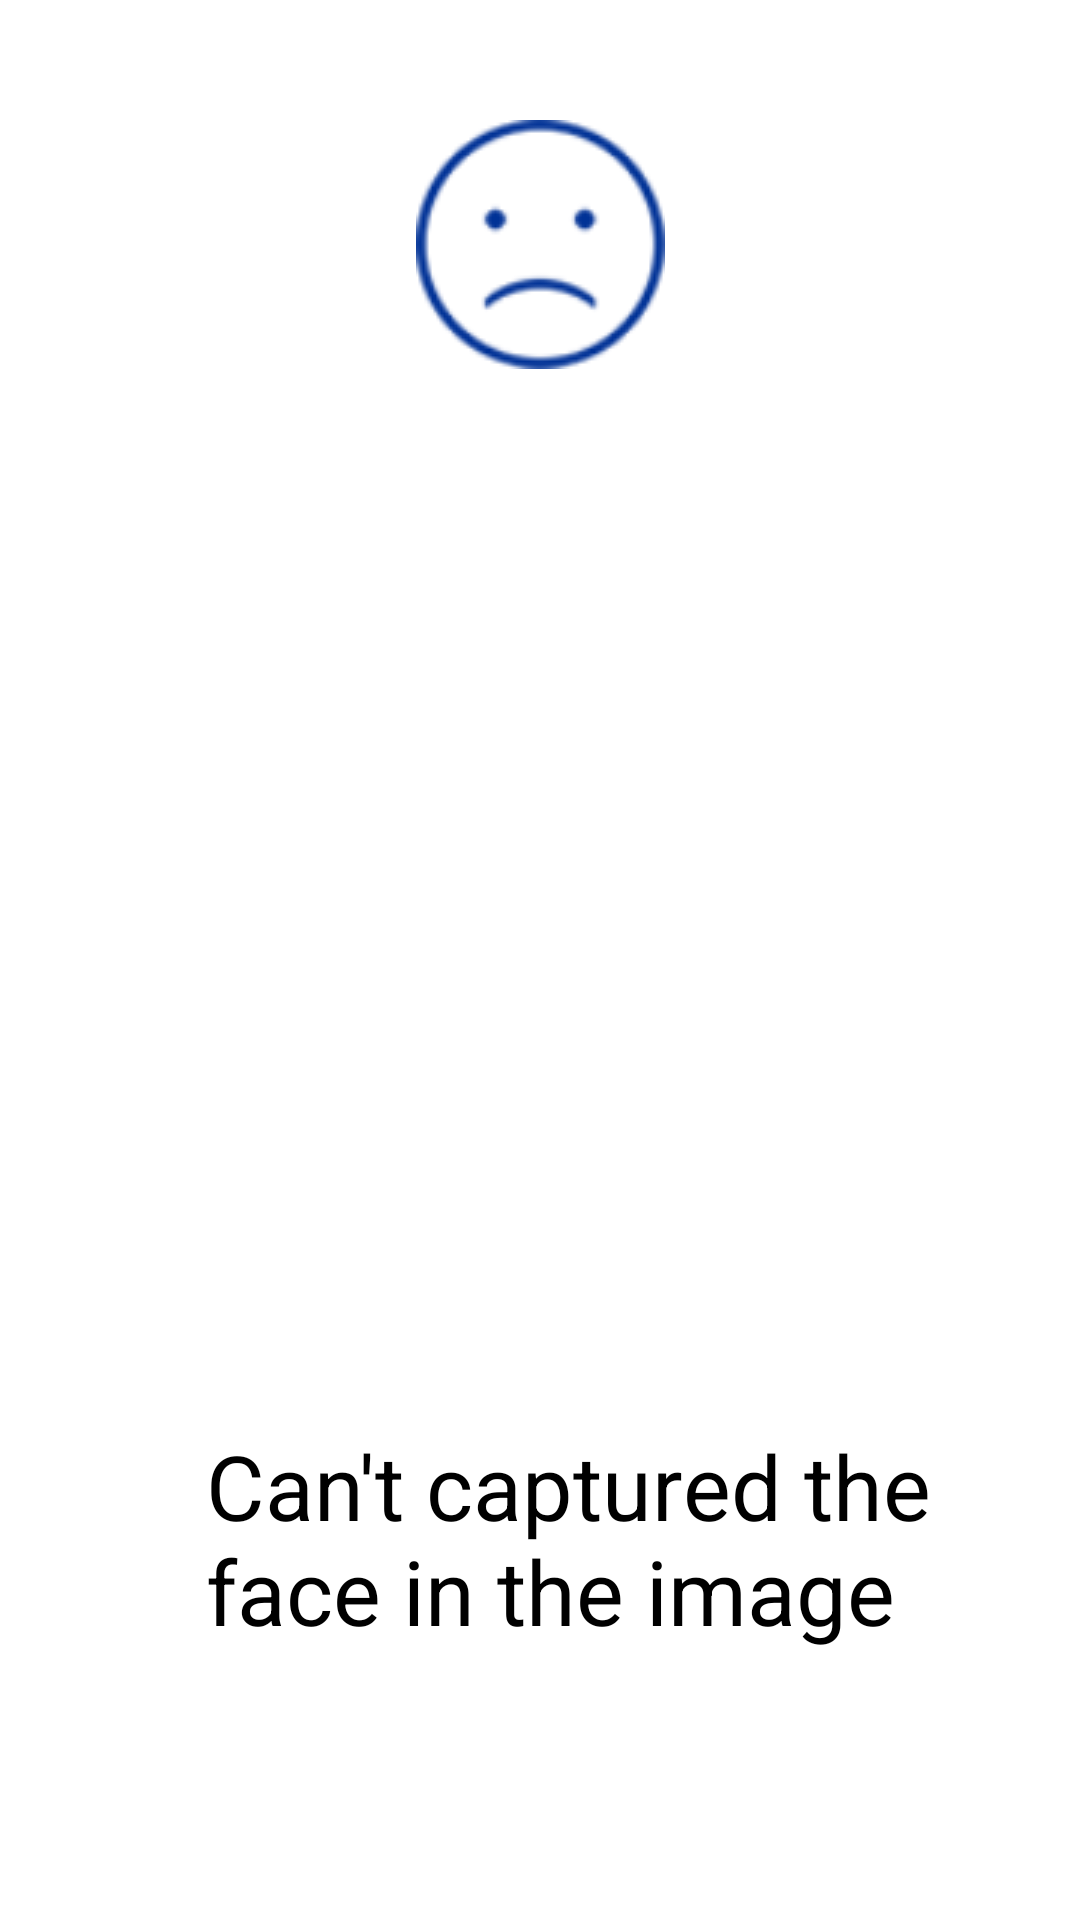

Screen size 1080*1920. Icon name, then its box in pixels as (x1, y1, x2, y2):
sad face: (416, 120, 665, 369)
